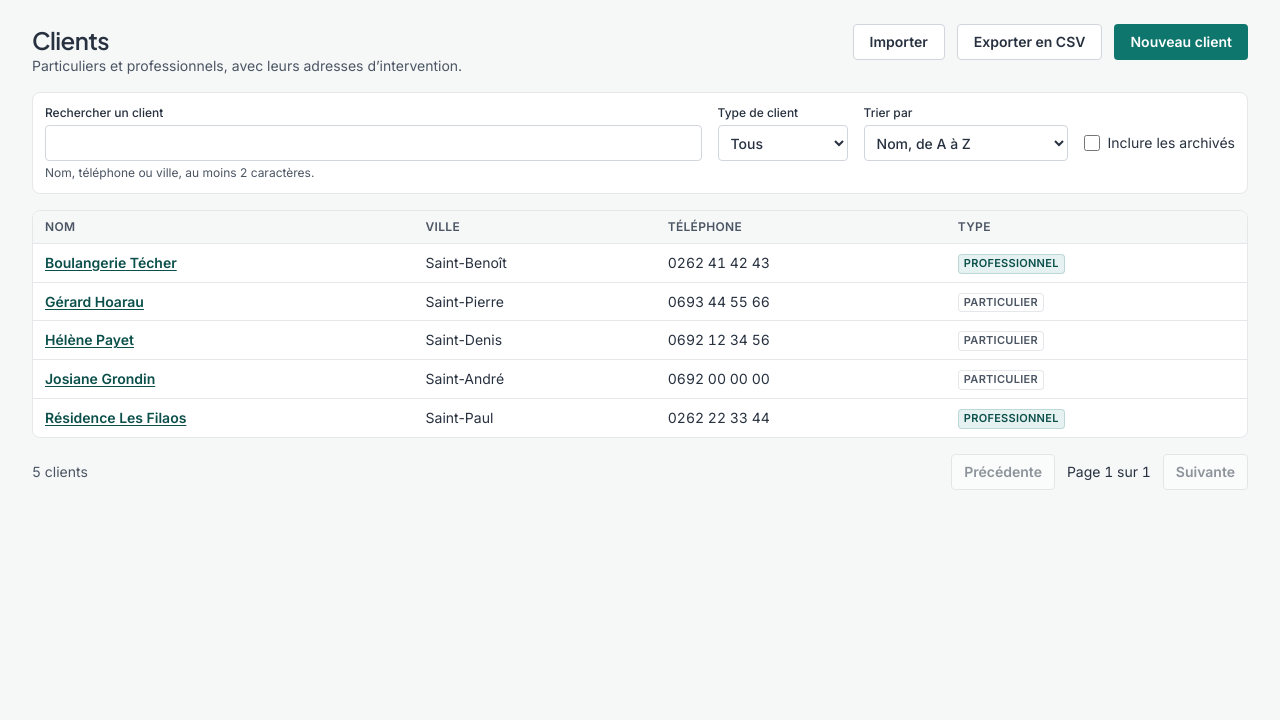
Scenario: export des clients en CSV (US32) › US32 : le refus d’un export de plus de 5 000 lignes s’affiche tel quel, sans fichier
Expected: the link "Hélène Payet" is shown, left=45, top=331, right=134, bottom=348
Click the button "Exporter en CSV" at (1030, 42), box left=957, top=24, right=1102, bottom=60
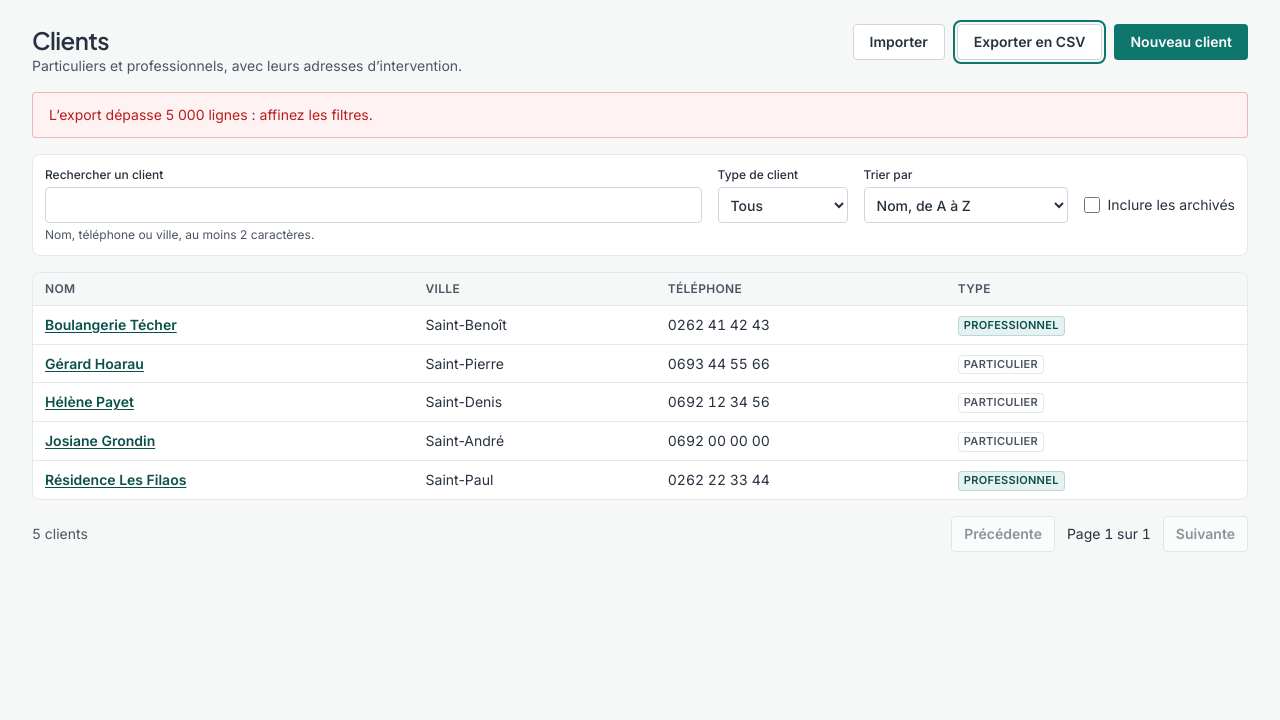
Result: the message reads "L’export dépasse 5 000 lignes : affinez les filtres." at left=49, top=106, right=373, bottom=123
